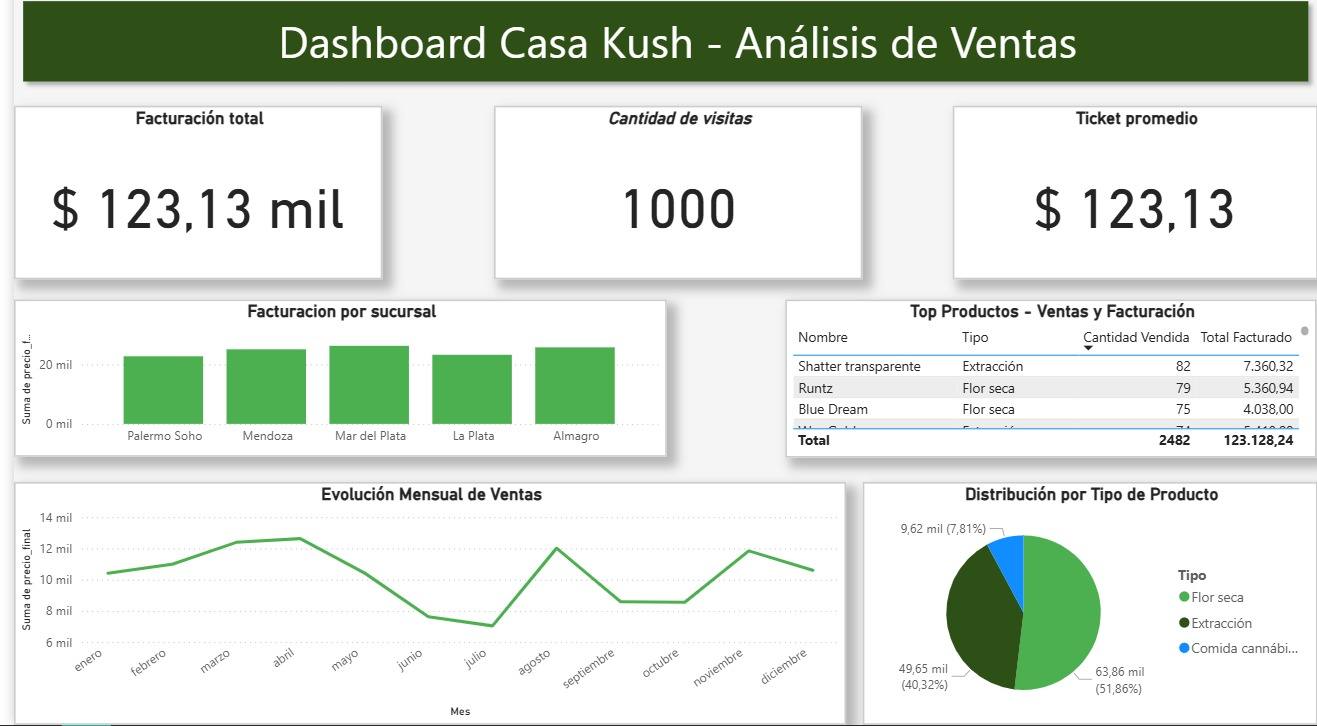

What the dashboard file says about the page in this screenshot:
{"tool":"powerbi","page":{"name":"Página 1","canvas":[1280,720],"ordinal":0},"visuals":[{"type":"clusteredColumnChart","title":"Facturacion por sucursal","fields":{"Category":["Sucursales.Nombre"],"Y":["Sum(detalle_visitas.precio_final)"]},"box":[0,302.2,640.5,154.7],"z":0,"group":"g1"},{"type":"lineChart","title":"Evolución Mensual de Ventas","fields":{"Category":["Visitas.Fecha.Variación.Jerarquía de fechas.Mes"],"Y":["Sum(detalle_visitas.precio_final)"]},"box":[0,481.4,816.9,238.6],"z":0},{"type":"card","title":"Facturación total ","fields":{"Values":["detalle_visitas.Total Facturado"]},"box":[0,111.3,361.4,170.6],"z":1000},{"type":"tableEx","title":"Top Productos - Ventas y Facturación","fields":{"Values":["Productos.Nombre","Productos.Tipo","detalle_visitas.Cantidad Vendida","detalle_visitas.Total Facturado"]},"box":[757.6,302.2,521.9,155],"z":1000,"group":"g1"},{"type":"card","title":"Cantidad de visitas","fields":{"Values":["Visitas.Total Visitas"]},"box":[471.3,111.3,361.4,170.6],"z":2000},{"type":"card","title":"Ticket promedio ","fields":{"Values":["detalle_visitas.Ticket Promedio"]},"box":[921,111.3,358.6,170.6],"z":3000},{"type":"pieChart","title":"Distribución por Tipo de Producto","fields":{"Category":["Productos.Tipo"],"Y":["detalle_visitas.Total Facturado"]},"box":[832.8,481.4,446.7,238.6],"z":4000},{"type":"shape","box":[0,0,1279.5,96.9],"z":5000},{"type":"textbox","box":[133,13,1038.1,72.3],"z":6000},{"type":"group","id":"g1","title":"Grupo 2","box":[0,302.2,1279.5,155],"z":7000}]}

Visuals, with their boxes in screenshot pixels (x1, y1, x2, y2), scaled from the page's 1280x720 canvas onto the 1317x726 screenshot:
"Facturacion por sucursal" clusteredColumnChart: x1=0, y1=305, x2=659, y2=461
"Evolución Mensual de Ventas" lineChart: x1=0, y1=485, x2=841, y2=725
"Facturación total " card: x1=0, y1=112, x2=372, y2=284
"Top Productos - Ventas y Facturación" tableEx: x1=779, y1=305, x2=1316, y2=461
"Cantidad de visitas" card: x1=485, y1=112, x2=857, y2=284
"Ticket promedio " card: x1=948, y1=112, x2=1316, y2=284
"Distribución por Tipo de Producto" pieChart: x1=857, y1=485, x2=1316, y2=725
shape: x1=0, y1=0, x2=1316, y2=98
textbox: x1=137, y1=13, x2=1205, y2=86
"Grupo 2" group: x1=0, y1=305, x2=1316, y2=461
